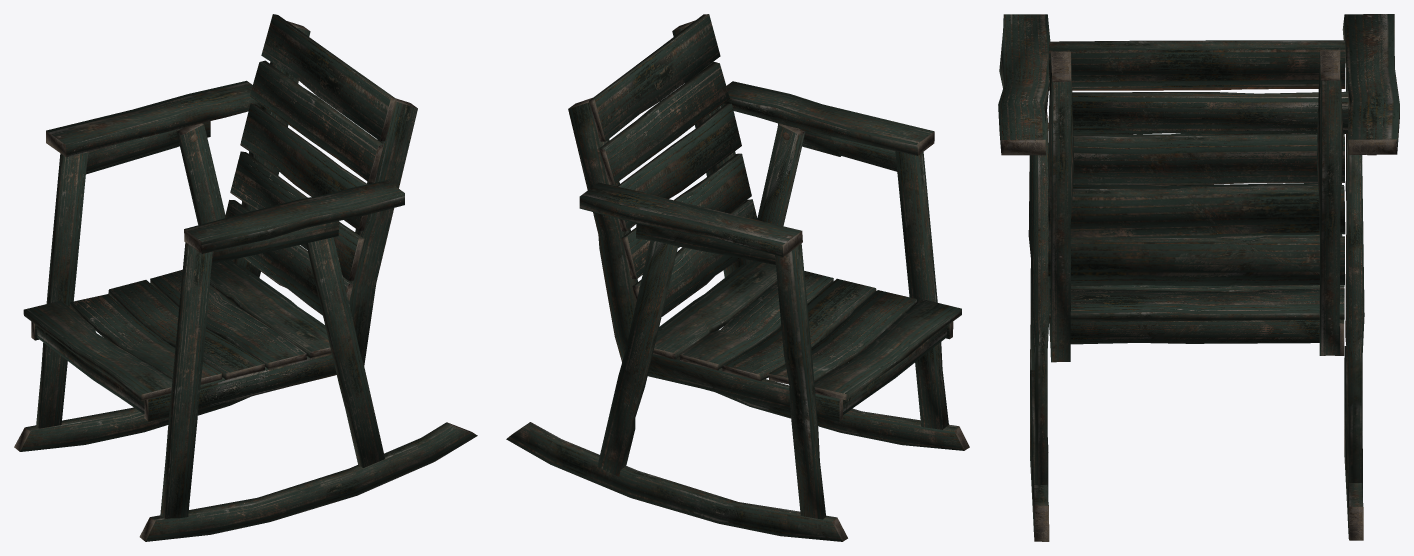
File: rocking_chair.fbx
3 views of the same model, side by side, from view 1: azimuth 30°, elevation 25°; view 2: azimuth 150°, elevation 25°; view 3: azimuth 270°, elevation 25° (orthographic). The views are drawn at different scales.
Visible parts, largest first — view 1: SM_Rocking_Chair; view 2: SM_Rocking_Chair; view 3: SM_Rocking_Chair.
Part boxes in pixels (box(x1,y1,x2,y2)): SM_Rocking_Chair: box(14, 14, 477, 541); SM_Rocking_Chair: box(506, 14, 969, 541); SM_Rocking_Chair: box(998, 14, 1399, 541).
Bounding box in the file's own units: 7.53 × 8.28 × 6.12.
